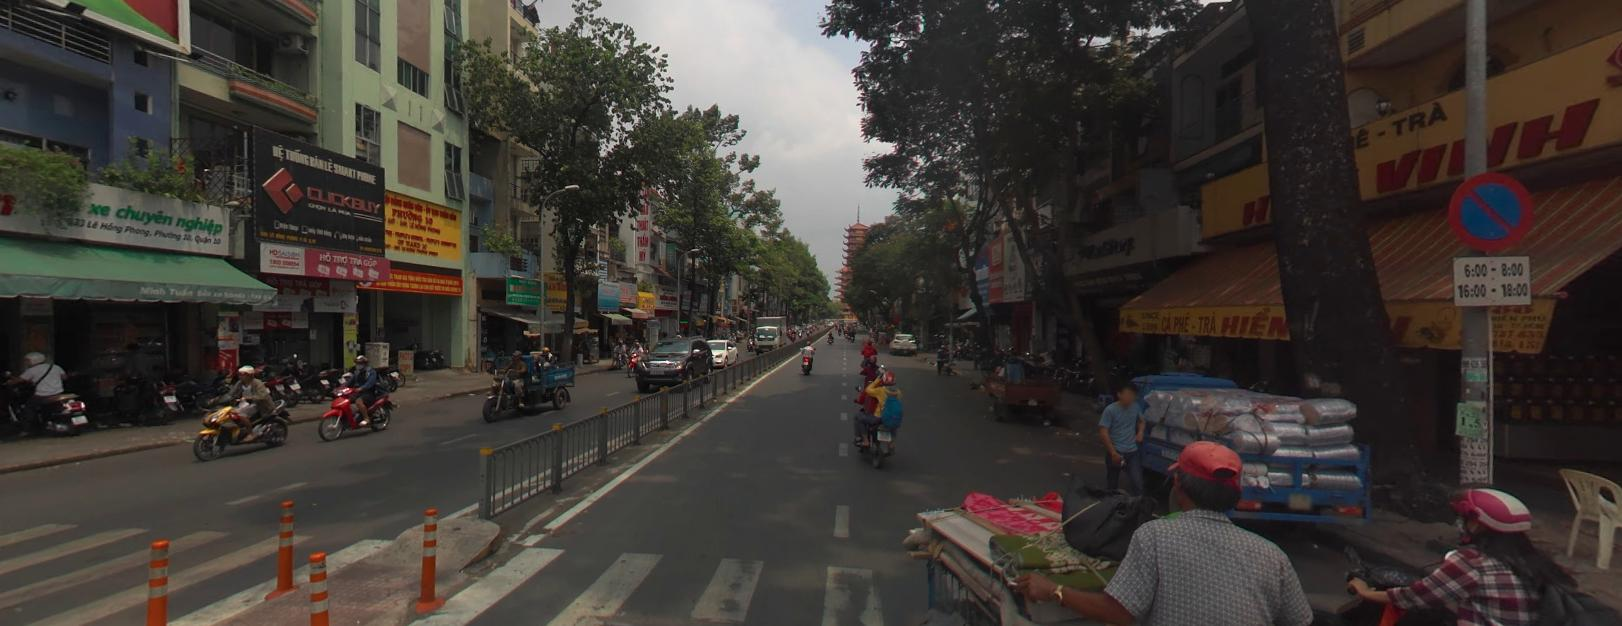Cam dung va do: (1445, 169, 1538, 254)
